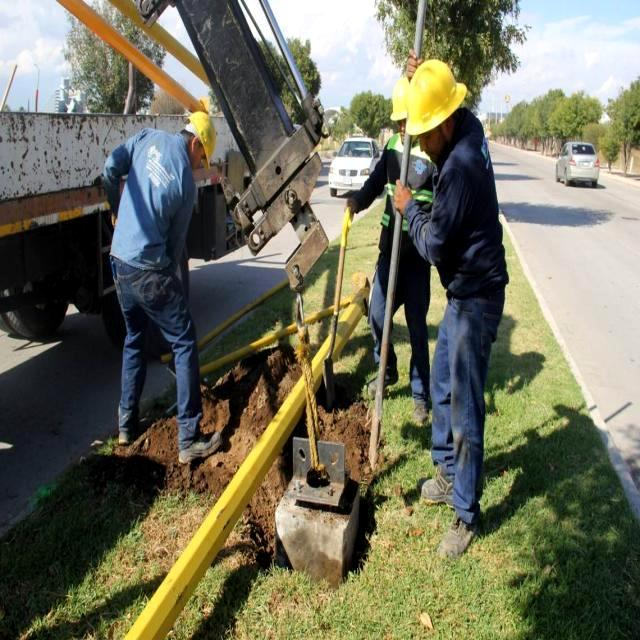Broken Pole: (120, 274, 373, 640)
